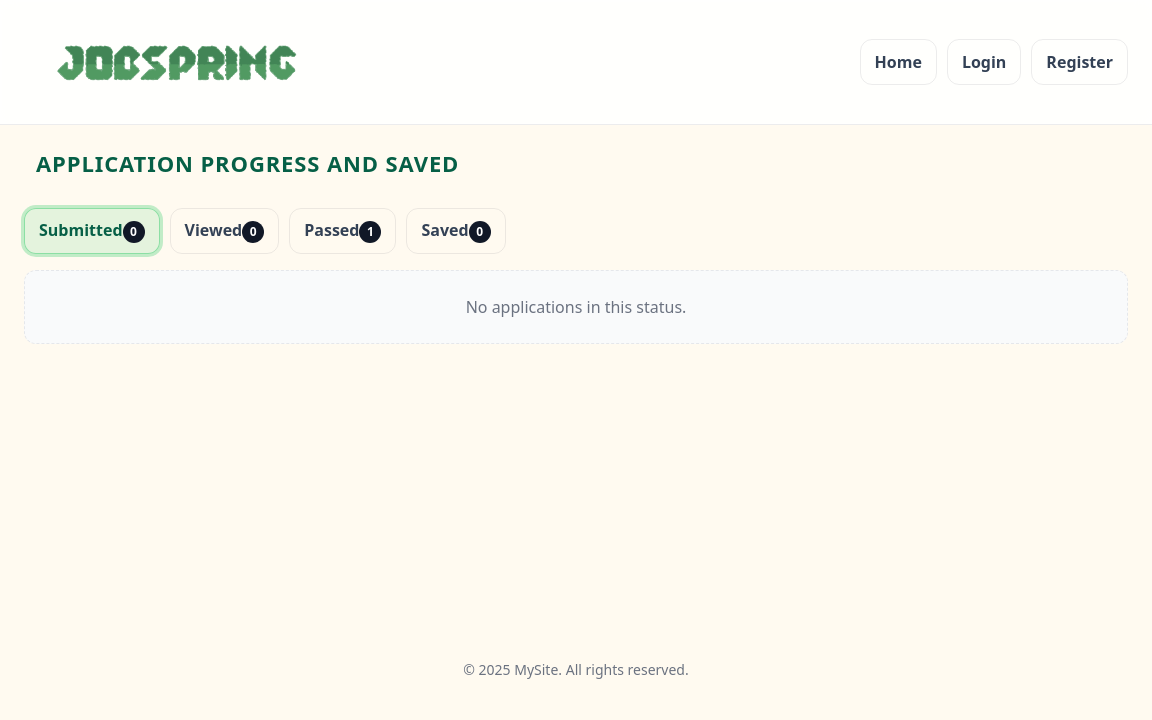
shows resume_passed tab applications
Step 1. Click the tab "Passed 1" → point(343, 231), box [289, 208, 396, 254]
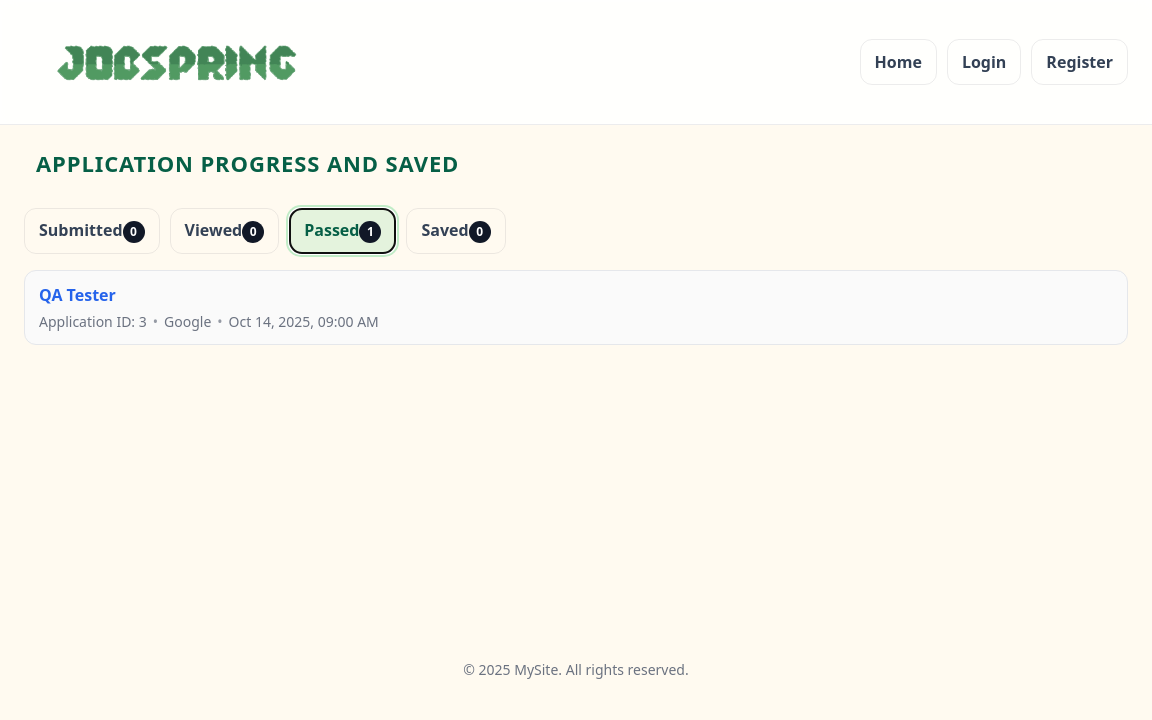
Now the link "QA Tester" is shown, box [39, 284, 116, 306]
Now the text "Google" is shown, box [164, 310, 211, 332]
